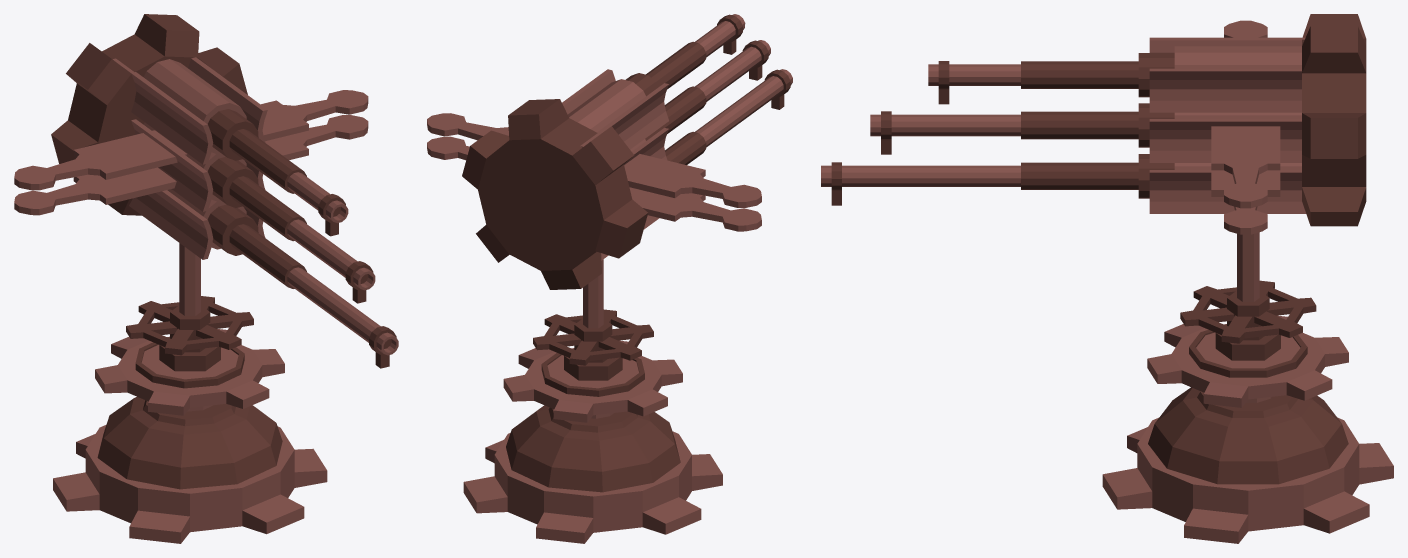
The model's file is gun-7.glb.
3 views of the same model, side by side, from view 1: azimuth 30°, elevation 25°; view 2: azimuth 150°, elevation 25°; view 3: azimuth 270°, elevation 25° (orthographic). The views are drawn at different scales.
Visible parts, largest first — view 1: Gun_7_Gun, Gun_7_Base, Gun_7_Mid; view 2: Gun_7_Gun, Gun_7_Base, Gun_7_Mid; view 3: Gun_7_Gun, Gun_7_Base, Gun_7_Mid.
Boxes of the visible parts, x1,y1,x2,y2 form: Gun_7_Gun: [14, 14, 398, 368]; Gun_7_Base: [53, 337, 327, 543]; Gun_7_Mid: [95, 243, 284, 415]; Gun_7_Gun: [427, 14, 792, 289]; Gun_7_Base: [463, 353, 722, 543]; Gun_7_Mid: [503, 259, 682, 422]; Gun_7_Gun: [821, 14, 1366, 234]; Gun_7_Base: [1102, 324, 1393, 543]; Gun_7_Mid: [1147, 232, 1348, 407].
Size of the model in its own units: 2.02 by 2.41 by 2.71.
